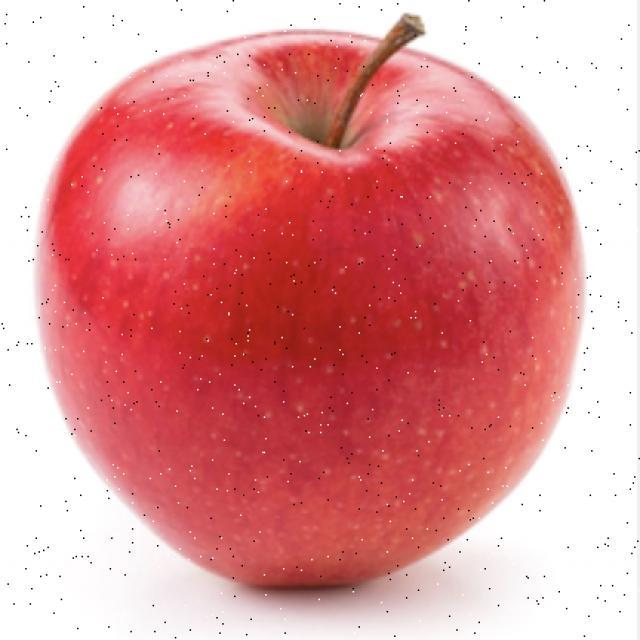Fresh Apple: (82, 38, 578, 572)
